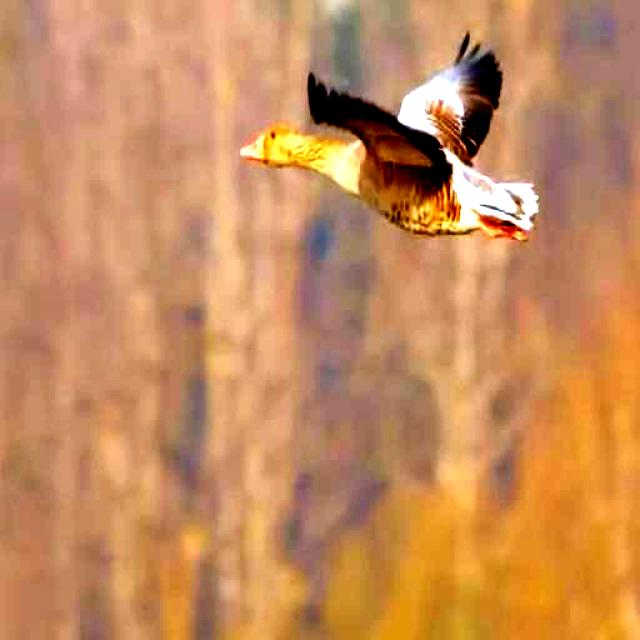airplane: (235, 42, 546, 251)
